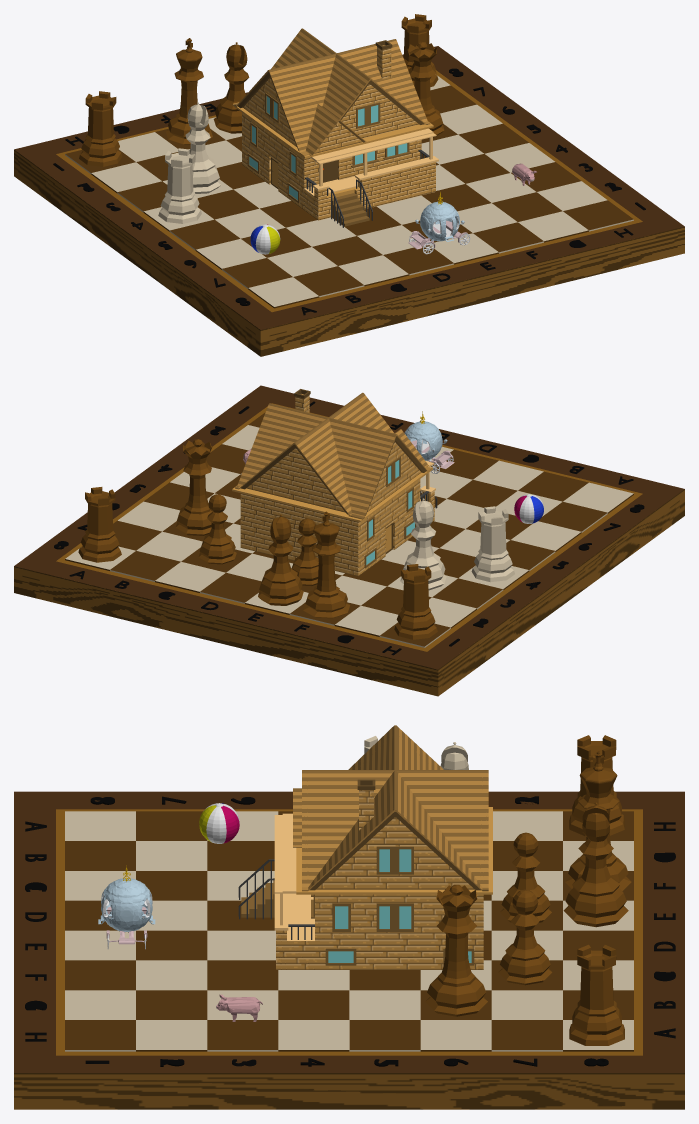
The picture shows the model from 3 angles, top to bottom: view 1: azimuth 30°, elevation 25°; view 2: azimuth 150°, elevation 25°; view 3: azimuth 270°, elevation 25°; orthographic projection. The views are drawn at different scales.
Visible parts, largest first — view 1: Cube.002, Cube.508, VEHICLES_FANTASY_CARRIAGE, OBJRANDOM_BEACHBALL; view 2: Cube.002, Cube.508, VEHICLES_FANTASY_CARRIAGE, OBJRANDOM_BEACHBALL; view 3: Cube.002, Cube.508, VEHICLES_FANTASY_CARRIAGE, OBJRANDOM_BEACHBALL, ANIMAL_CERDO.
Part boxes in pixels (x1=…): Cube.002: x1=14, y1=14, x2=684, y2=356; Cube.508: x1=232, y1=28, x2=438, y2=227; VEHICLES_FANTASY_CARRIAGE: x1=408, y1=192, x2=470, y2=254; OBJRANDOM_BEACHBALL: x1=250, y1=224, x2=280, y2=254; Cube.002: x1=14, y1=385, x2=684, y2=696; Cube.508: x1=232, y1=389, x2=437, y2=576; VEHICLES_FANTASY_CARRIAGE: x1=404, y1=411, x2=454, y2=473; OBJRANDOM_BEACHBALL: x1=514, y1=494, x2=543, y2=523; Cube.002: x1=14, y1=735, x2=684, y2=1109; Cube.508: x1=238, y1=725, x2=492, y2=969; VEHICLES_FANTASY_CARRIAGE: x1=98, y1=865, x2=155, y2=949; OBJRANDOM_BEACHBALL: x1=199, y1=803, x2=239, y2=843; ANIMAL_CERDO: x1=216, y1=994, x2=262, y2=1021.
Bounding box in the file's own units: 3981 × 1507 × 4012.
33 materials, 4 textured.
